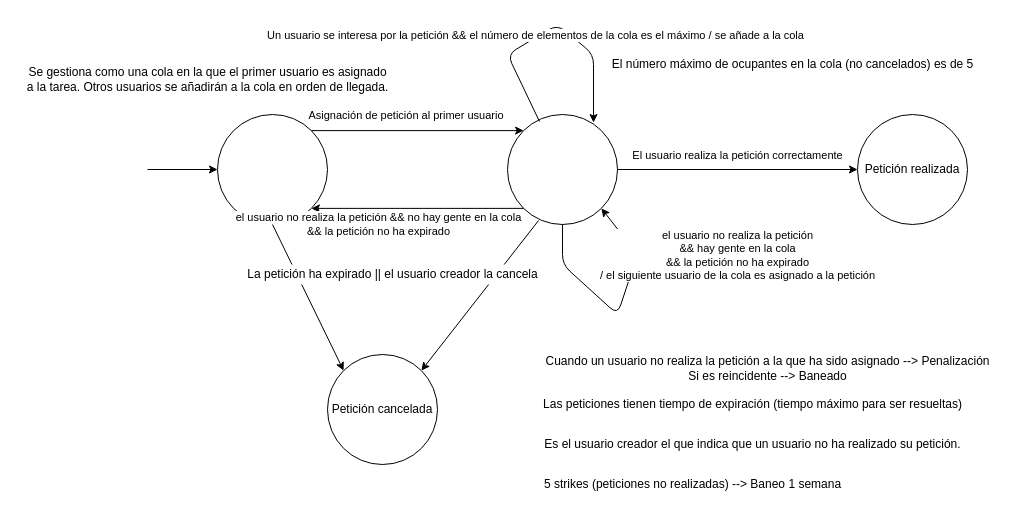
This 1014x512 diagram has some shape labels left out. Each missing label, with the centre of its shape:
"Peticion creada (abierta)" belongs at (x=272, y=169).
"Petición asignada a usuario" belongs at (x=562, y=169).
